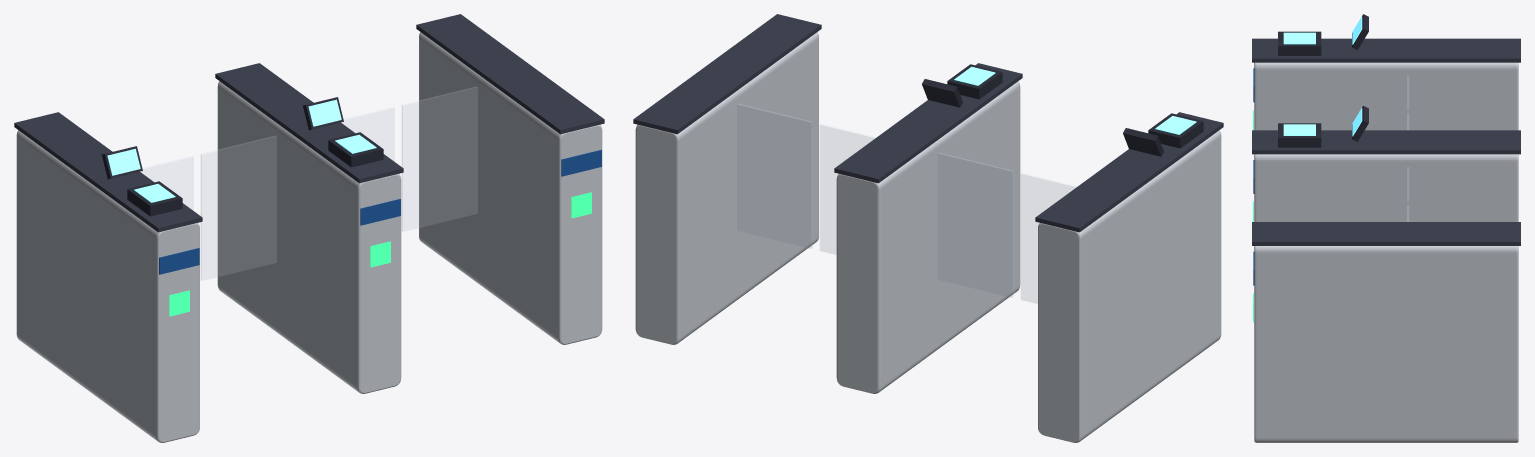
Rendered from air-035.glb.
3 renders of one model, left to right at view 1: azimuth 30°, elevation 25°; view 2: azimuth 150°, elevation 25°; view 3: azimuth 270°, elevation 25°, orthographic. The views are drawn at different scales.
Parts seen in each view (by area): view 1: counter_panel, glass_clear, dark_steel, plastic_dark, pump_screen, airline_blue, trace_ecg; view 2: counter_panel, glass_clear, dark_steel, plastic_dark, pump_screen; view 3: counter_panel, dark_steel, plastic_dark, pump_screen.
Boxes of the visible parts, <box> form: counter_panel: <box>16,32,602,442</box>; glass_clear: <box>141,87,477,280</box>; dark_steel: <box>14,14,604,232</box>; plastic_dark: <box>102,97,383,216</box>; pump_screen: <box>107,99,376,202</box>; airline_blue: <box>159,149,601,274</box>; trace_ecg: <box>169,192,591,316</box>; counter_panel: <box>635,32,1221,442</box>; glass_clear: <box>737,104,1076,303</box>; dark_steel: <box>633,14,1223,232</box>; plastic_dark: <box>922,64,1203,156</box>; pump_screen: <box>954,66,1196,134</box>; counter_panel: <box>1254,62,1518,442</box>; dark_steel: <box>1252,38,1520,245</box>; plastic_dark: <box>1278,14,1368,147</box>; pump_screen: <box>1283,16,1362,136</box>.
Size of the model in its own units: 2.22 by 1.18 by 1.24.
